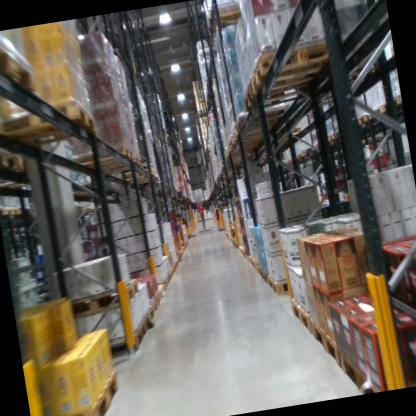pallet: (0, 95, 99, 159), (248, 40, 349, 102), (235, 65, 322, 113), (38, 370, 125, 416), (63, 278, 143, 319), (334, 334, 386, 396), (0, 26, 39, 100), (94, 322, 150, 362), (73, 142, 135, 173), (308, 311, 339, 370), (233, 108, 287, 137), (204, 3, 246, 40), (231, 118, 287, 143), (288, 291, 315, 342), (97, 151, 144, 174), (227, 129, 272, 152), (115, 165, 158, 189), (0, 136, 22, 174), (267, 269, 290, 301), (377, 89, 403, 117), (270, 125, 301, 141), (351, 110, 370, 131), (145, 296, 161, 320), (0, 201, 19, 218), (143, 305, 156, 329), (366, 103, 382, 120), (15, 204, 32, 217), (259, 268, 270, 287), (304, 142, 321, 154), (254, 261, 264, 280), (321, 133, 335, 146), (294, 150, 311, 159), (332, 127, 343, 139), (302, 146, 314, 156), (358, 138, 366, 147)
pallet_truck: (209, 192, 226, 235)
